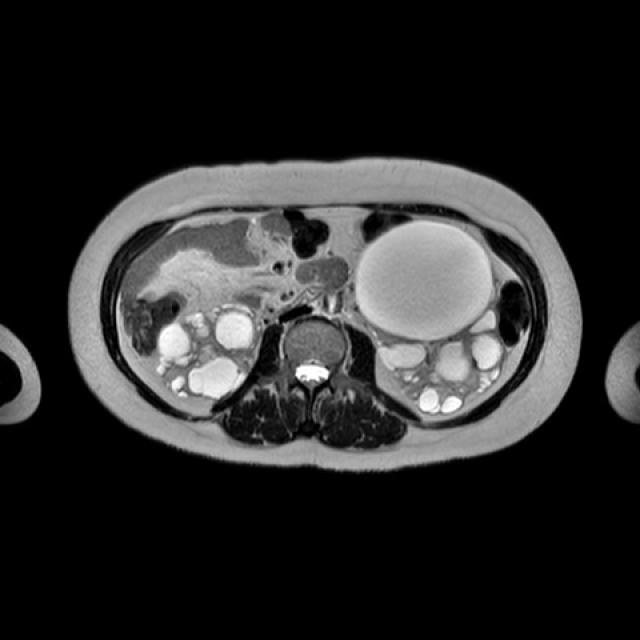sag: (156, 301, 265, 400)
sol: (354, 220, 506, 417)
